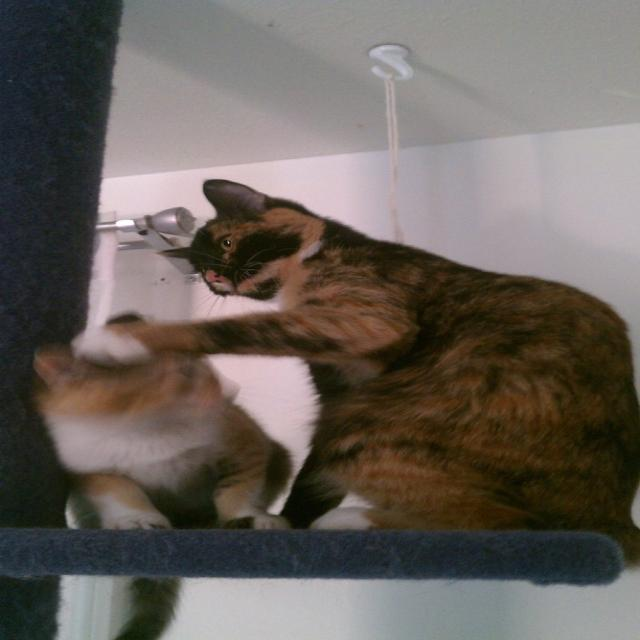Cat: (71, 178, 639, 580)
